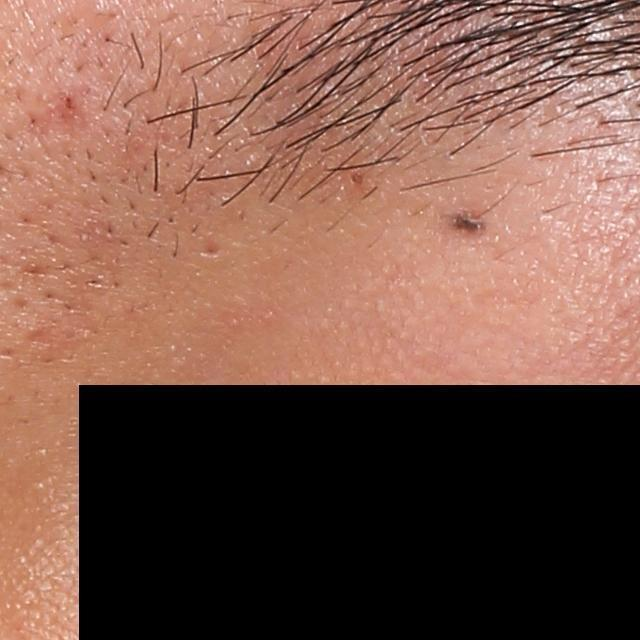atrophic_scar: (199, 236, 231, 262)
comedo: (343, 170, 371, 191)
nevus: (444, 209, 490, 231)
